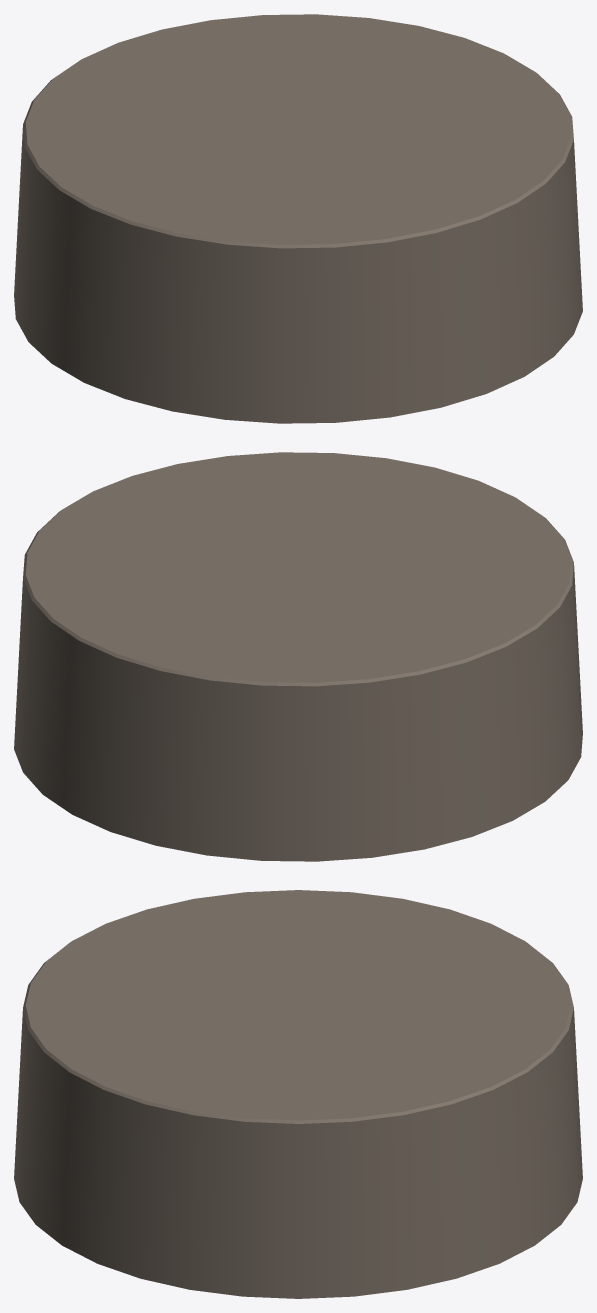
Rendered from bottom_med_01.fbx.
The picture shows the model from 3 angles, top to bottom: view 1: azimuth 30°, elevation 25°; view 2: azimuth 150°, elevation 25°; view 3: azimuth 270°, elevation 25°; orthographic projection.
Visible parts, largest first — view 1: bottom_medium_01; view 2: bottom_medium_01; view 3: bottom_medium_01.
Boxes of the visible parts, x1,y1,x2,y2 form: bottom_medium_01: (14, 14, 582, 423); bottom_medium_01: (14, 452, 582, 861); bottom_medium_01: (14, 890, 582, 1298).
Bounding box in the file's own units: 232 × 78.17 × 232.
